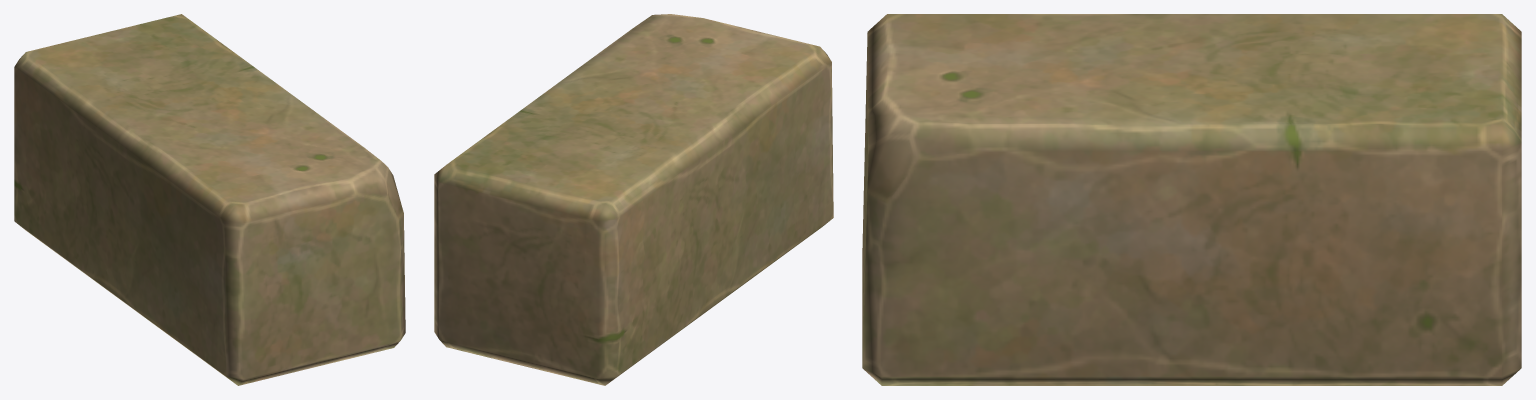
File: SM_Brick_Kit_3.fbx
The picture shows the model from 3 angles, left to right: view 1: azimuth 30°, elevation 25°; view 2: azimuth 150°, elevation 25°; view 3: azimuth 270°, elevation 25°; orthographic projection. The views are drawn at different scales.
Parts seen in each view (by area): view 1: SM_Brick_Kit_3_LOD0; view 2: SM_Brick_Kit_3_LOD0; view 3: SM_Brick_Kit_3_LOD0.
Part boxes in pixels (x1,y1,x2,y2): SM_Brick_Kit_3_LOD0: [14, 14, 405, 385]; SM_Brick_Kit_3_LOD0: [434, 14, 833, 385]; SM_Brick_Kit_3_LOD0: [862, 14, 1521, 385].
Size of the model in its own units: 20.02 by 43.65 by 19.05.
1 material, 1 textured.
